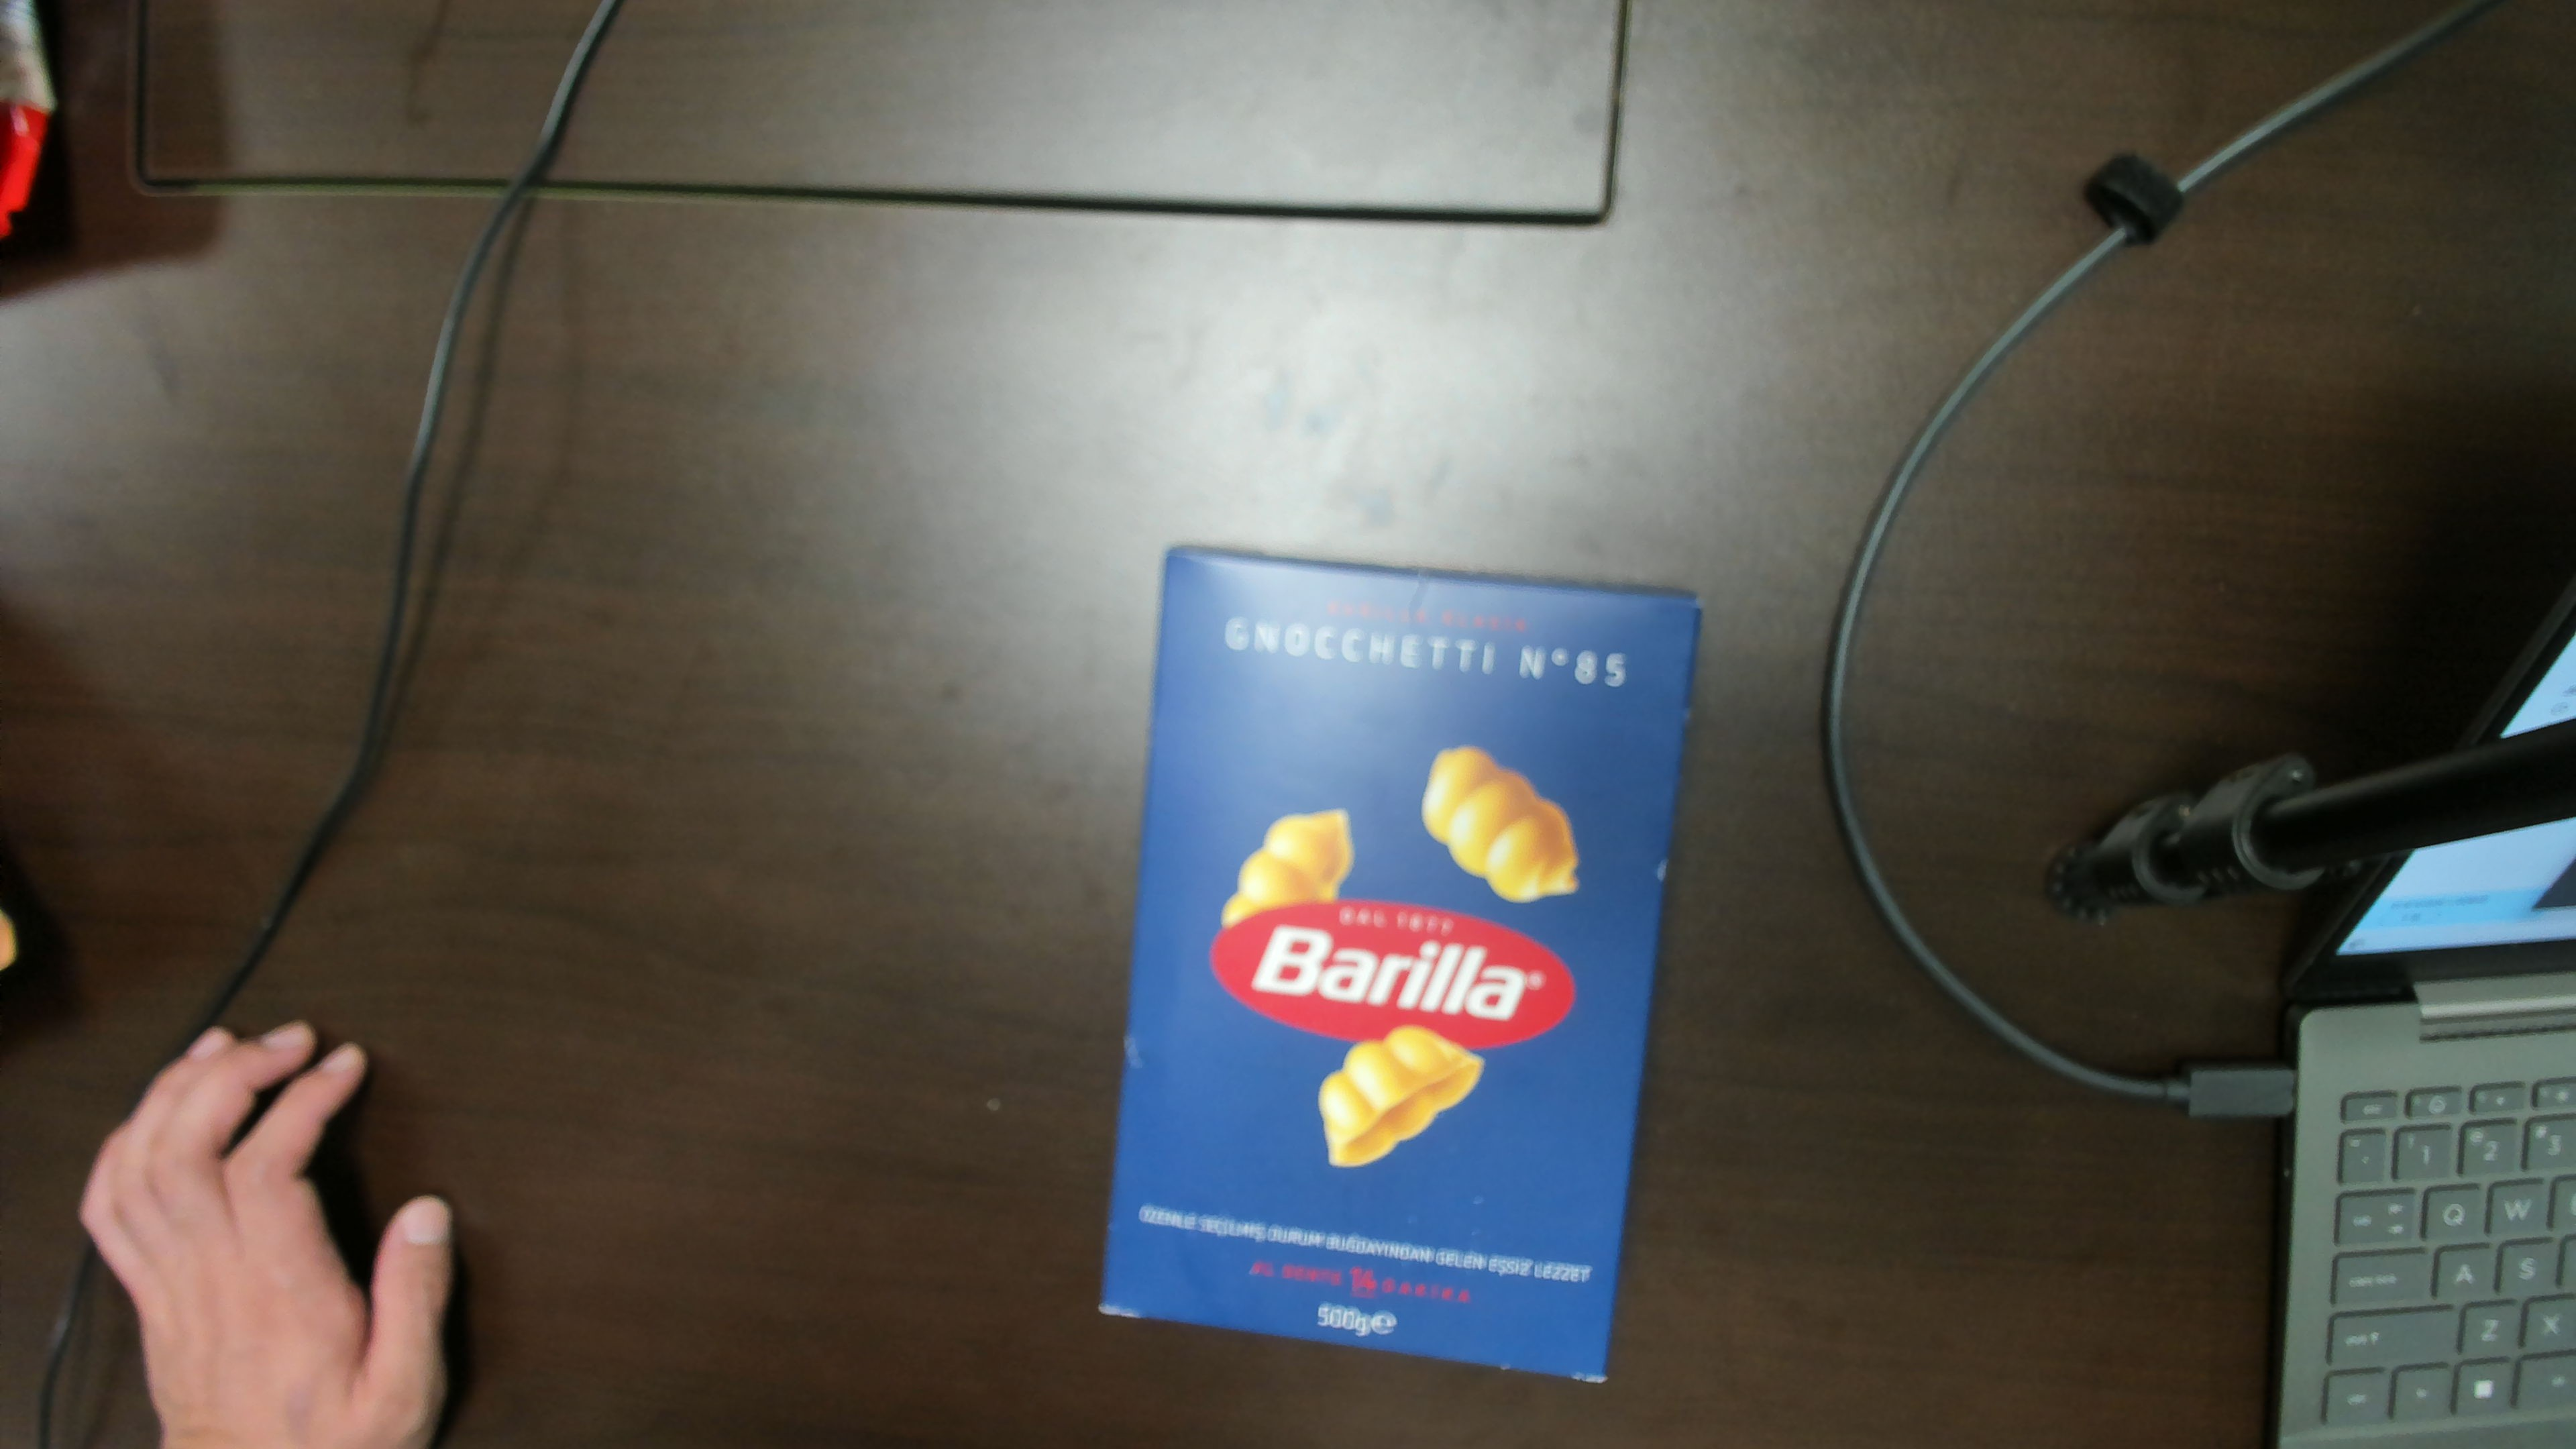Pasta_400-499g_Halal_NonHealthy: (1171, 580, 1610, 1329)
